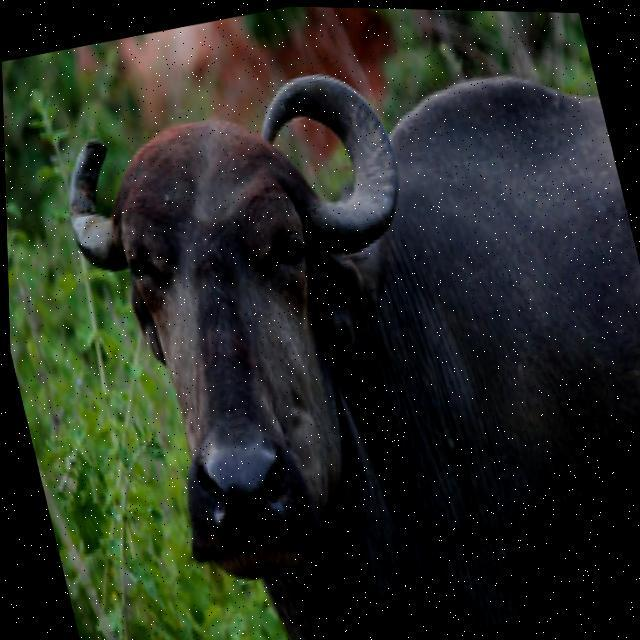Buffalo: (39, 5, 640, 640)
